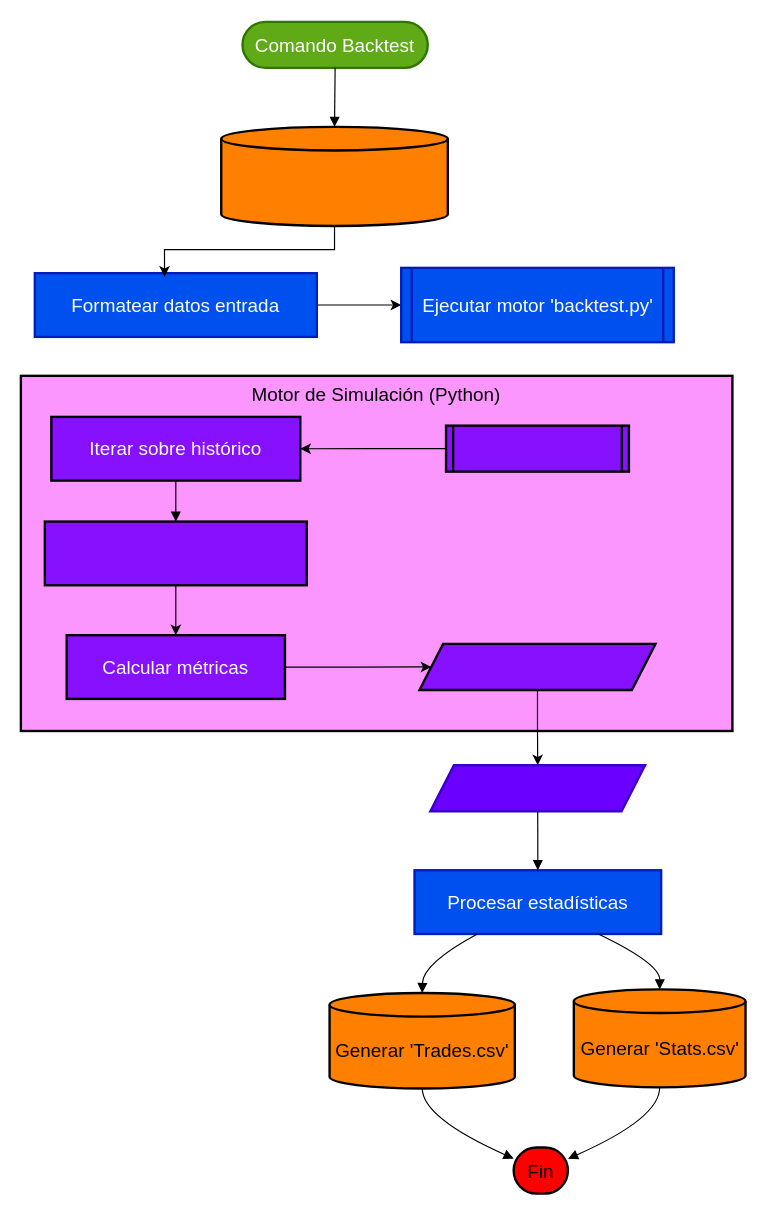
Some shapes in this 768 by 1214 pixel diagram are drawn without their labels. Each missing label, with the centre of its shape:
"Cargar estrategia" goes at pixel 537 448.
"Cargar histórico de velas" goes at pixel 333 176.
"Emitir Reporte JSON" goes at pixel 537 666.
"Recibir resultados" goes at pixel 537 787.
"Simular Compra/Venta" goes at pixel 175 553.
